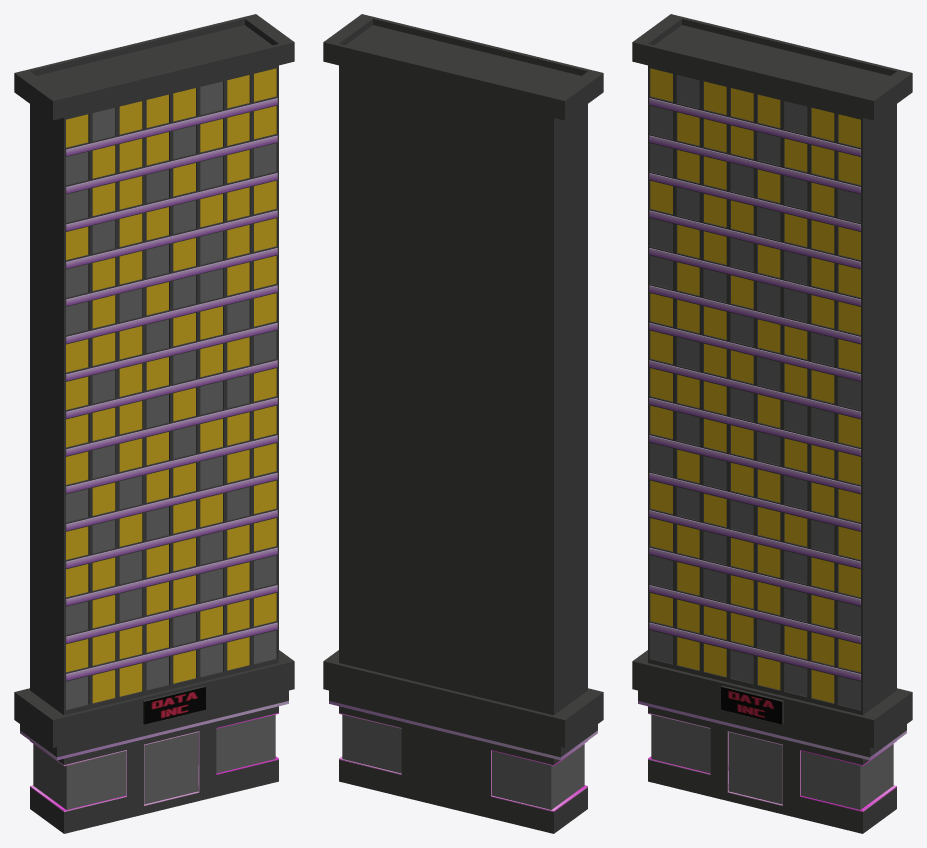
Rendered from skyscraper_05.fbx.
3 renders of one model, left to right at view 1: azimuth 30°, elevation 25°; view 2: azimuth 150°, elevation 25°; view 3: azimuth 330°, elevation 25°, orthographic.
Parts seen in each view (by area): view 1: Skyscraper_05.3, Skyscraper_05.4, Skyscraper_05.2, Skyscraper_05.1; view 2: Skyscraper_05.3, Skyscraper_05.1, Skyscraper_05.2; view 3: Skyscraper_05.3, Skyscraper_05.4, Skyscraper_05.2, Skyscraper_05.1.
Part boxes in pixels (x1=…): Skyscraper_05.3: x1=14, y1=14, x2=294, y2=833; Skyscraper_05.4: x1=66, y1=98, x2=277, y2=680; Skyscraper_05.2: x1=30, y1=713, x2=278, y2=811; Skyscraper_05.1: x1=20, y1=701, x2=288, y2=760; Skyscraper_05.3: x1=323, y1=14, x2=603, y2=833; Skyscraper_05.1: x1=329, y1=701, x2=597, y2=760; Skyscraper_05.2: x1=339, y1=713, x2=587, y2=811; Skyscraper_05.3: x1=632, y1=14, x2=912, y2=833; Skyscraper_05.4: x1=649, y1=98, x2=860, y2=680; Skyscraper_05.2: x1=648, y1=713, x2=896, y2=811; Skyscraper_05.1: x1=638, y1=701, x2=906, y2=760.
Bounding box in the file's own units: 2417 × 7050 × 693.
